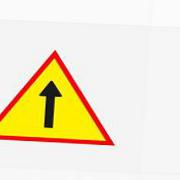forward: (2, 49, 116, 147)
